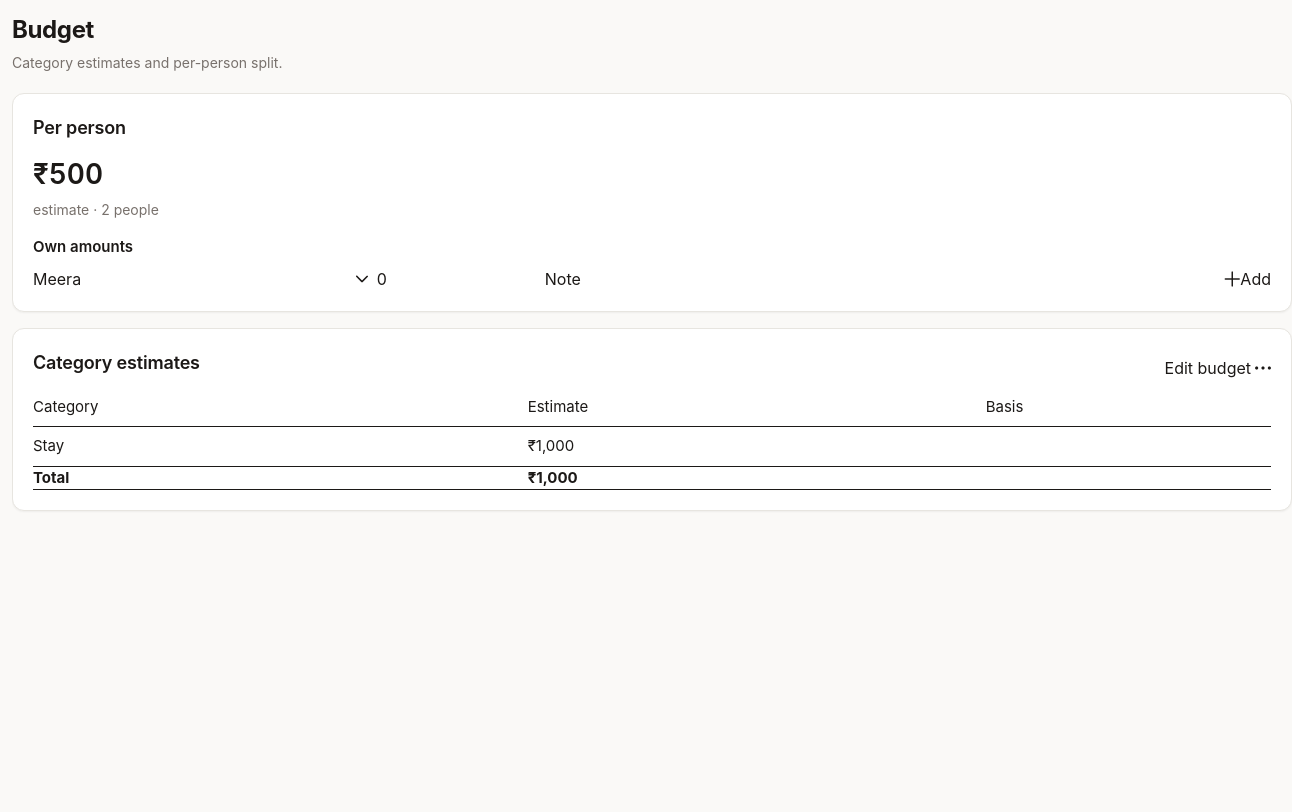
Test: TripBudgetView › per-person first, Save only when dirty, empty state › Add override picks a participant by person_id and adds their row
Step 1. Click the button "Add" → point(1248, 278), box x1=1224 y1=268 x2=1271 y2=288
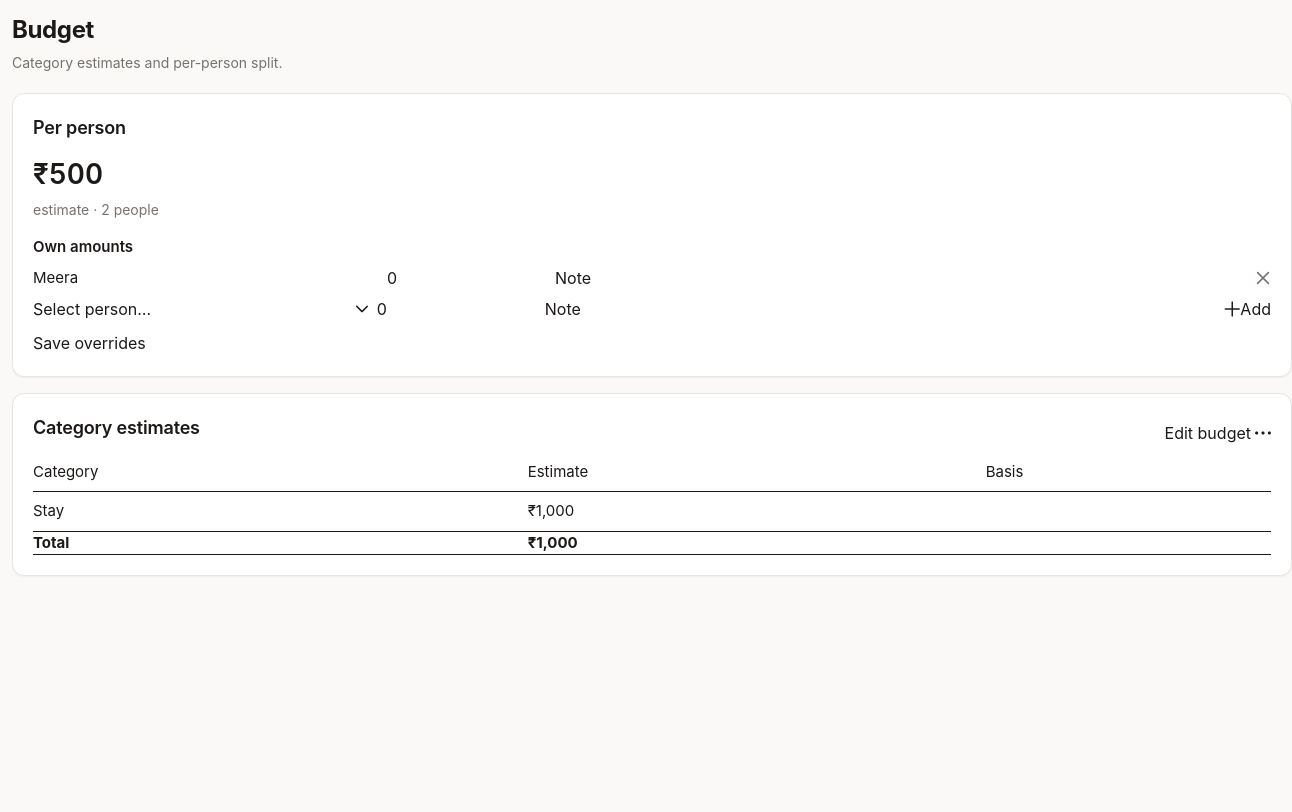
Expected: the list item with class "override-row" reads "Meera", x1=33 y1=268 x2=78 y2=286
Expected: the text "Save overrides" is shown, x1=33 y1=333 x2=146 y2=353
